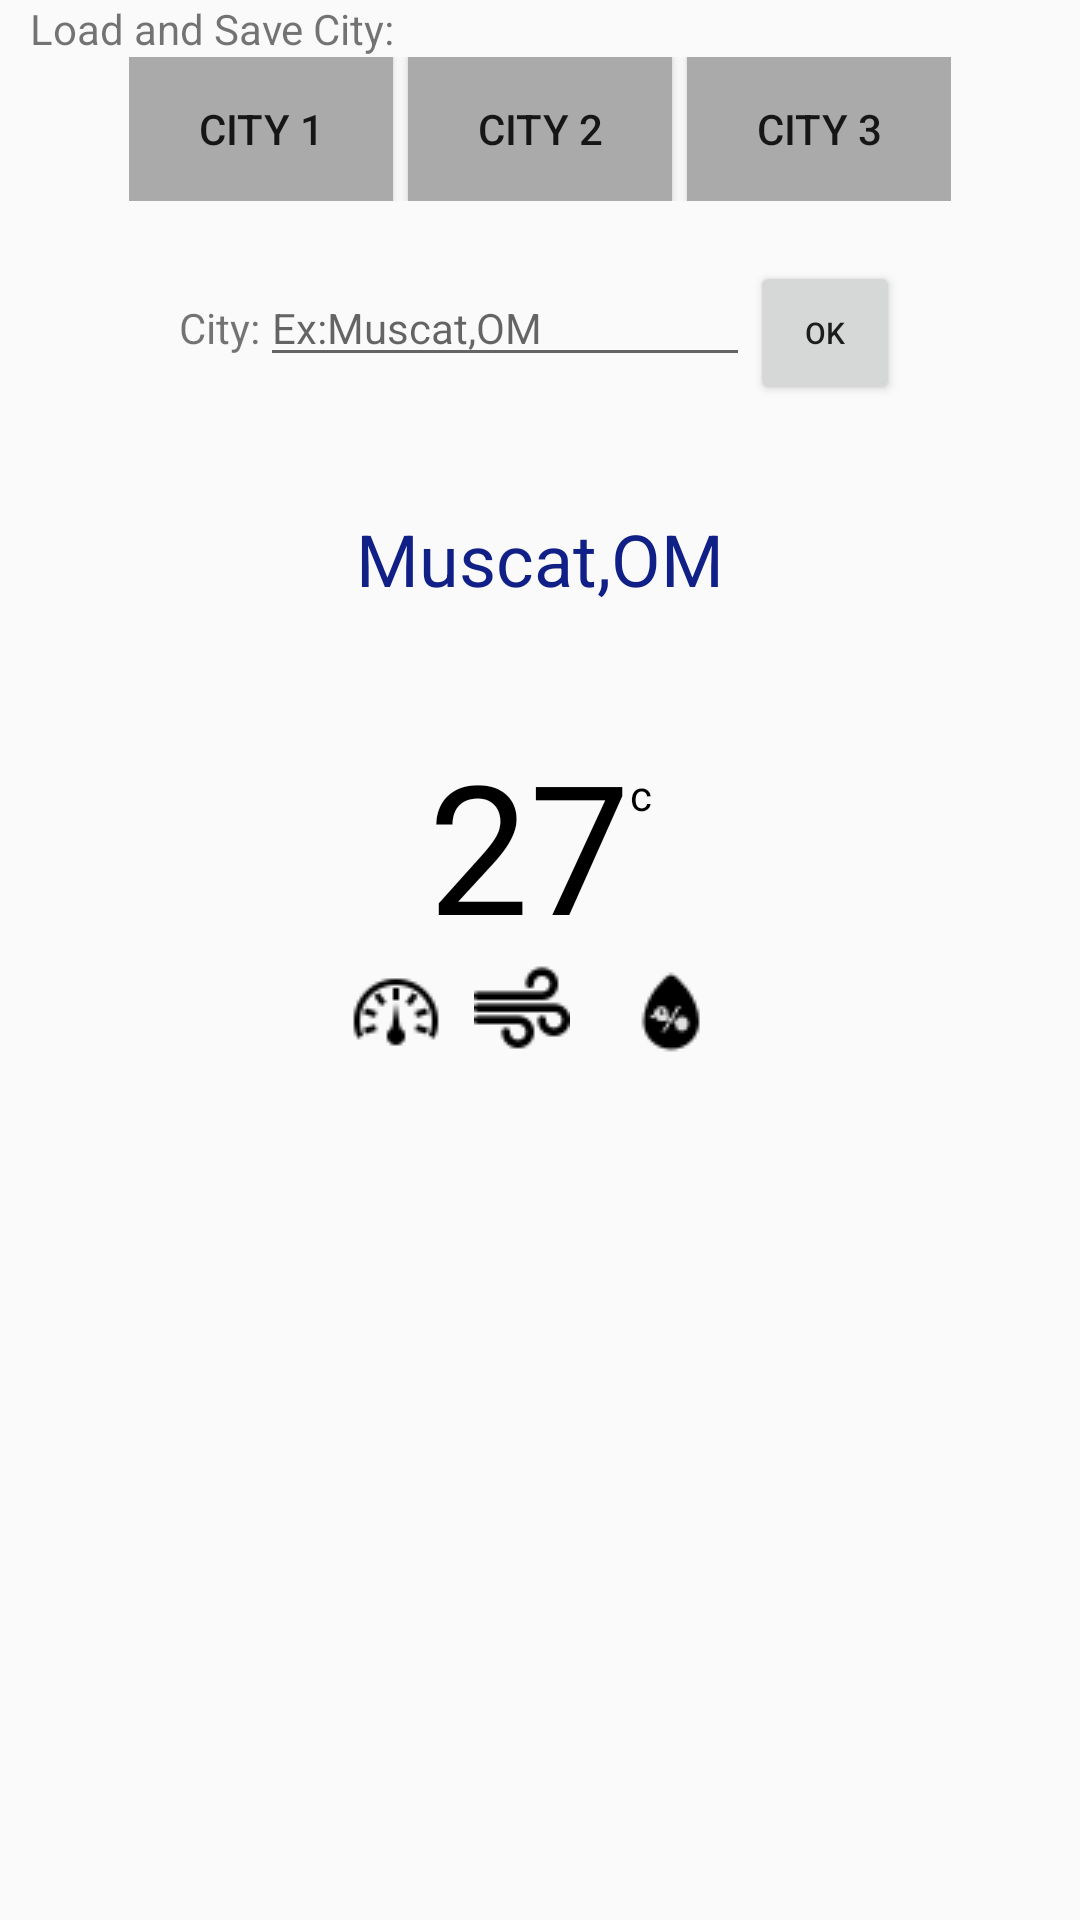

Screen size 1080x1920. Icon name, then its box in pixels as (x1,y1,x2,y2):
hum: (641,972,700,1052)
pressure: (353,978,439,1046)
wind: (474,966,570,1049)
